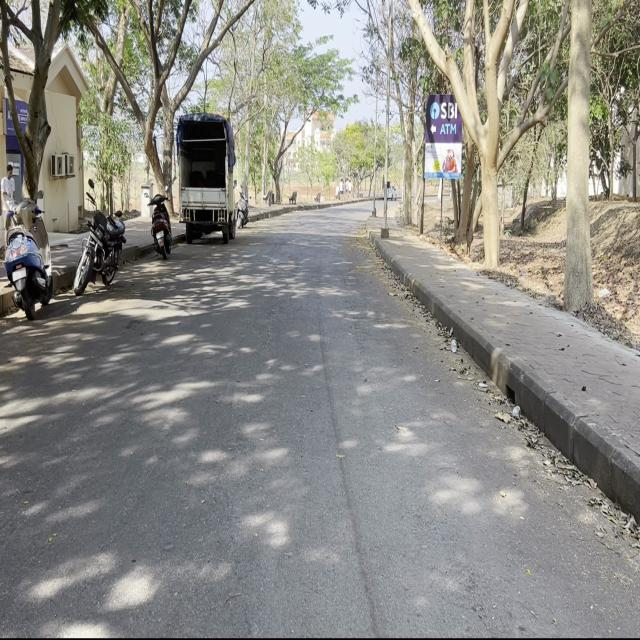Object: (177, 104, 236, 248), (0, 190, 60, 309), (73, 199, 128, 298), (147, 190, 178, 265)
Road: (4, 204, 632, 629)
